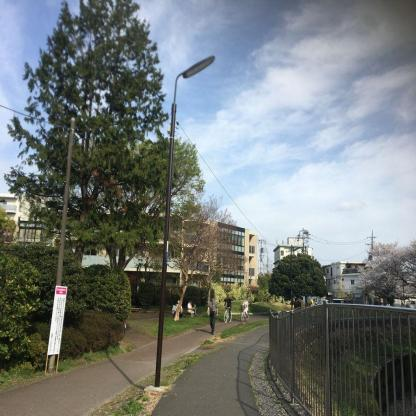Someiyoshino: (350, 230, 416, 304)
